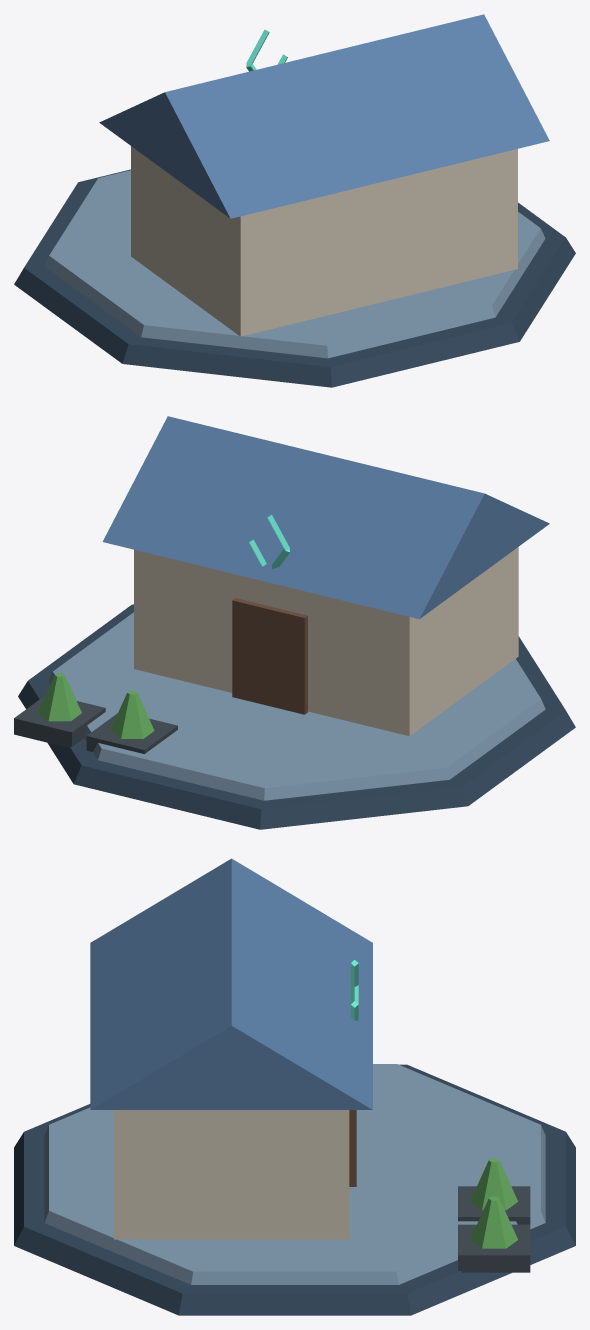
File: Hospital_1.fbx
The picture shows the model from 3 angles, top to bottom: view 1: azimuth 30°, elevation 25°; view 2: azimuth 150°, elevation 25°; view 3: azimuth 270°, elevation 25°; orthographic projection. The views are drawn at different scales.
Visible parts, largest first — view 1: Hospital_1; view 2: Hospital_1; view 3: Hospital_1.
Part boxes in pixels (box(x1,y1,x2,y2)): Hospital_1: box(14, 14, 575, 387); Hospital_1: box(14, 416, 575, 829); Hospital_1: box(14, 858, 575, 1315).
Size of the model in its own units: 2.7 by 1.35 by 2.7.
